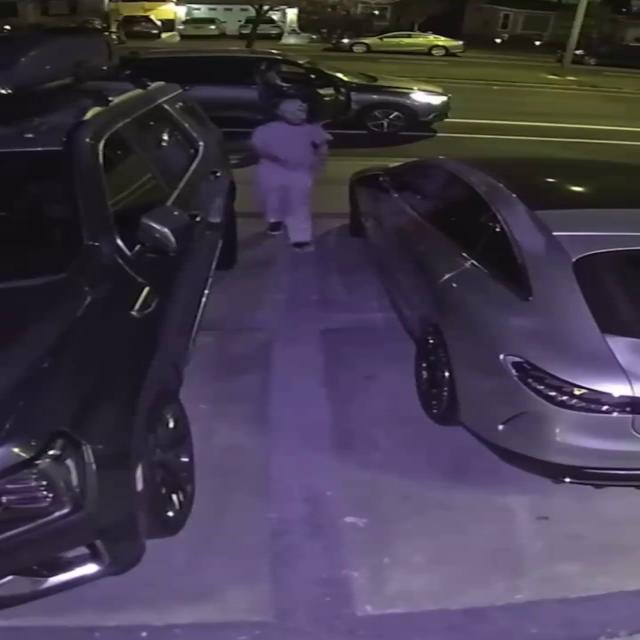Theft - Alert: (349, 157, 639, 490), (251, 98, 332, 250)
